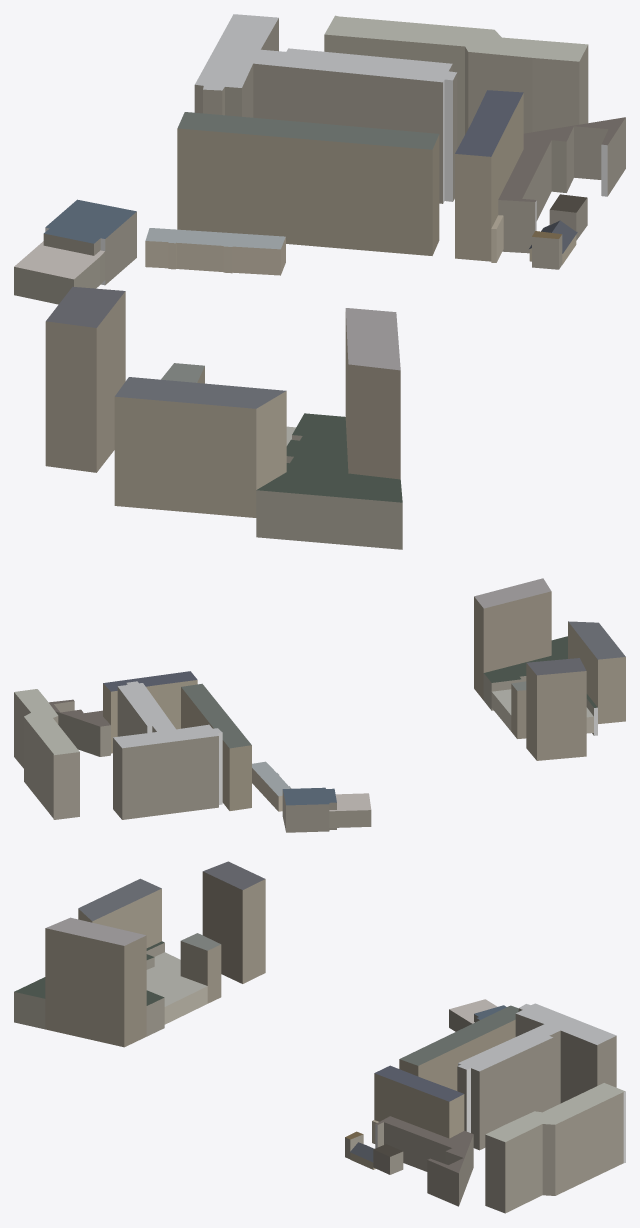
The picture shows the model from 3 angles, top to bottom: view 1: azimuth 30°, elevation 25°; view 2: azimuth 150°, elevation 25°; view 3: azimuth 270°, elevation 25°; orthographic projection. The views are drawn at different scales.
Parts seen in each view (by area): view 1: tuile; view 2: tuile; view 3: tuile.
Part boxes in pixels (<box>): tuile: <box>14,14,625,549</box>; tuile: <box>14,578,625,832</box>; tuile: <box>14,861,625,1213</box>.
Size of the model in its own units: 289 by 63.8 by 311.
